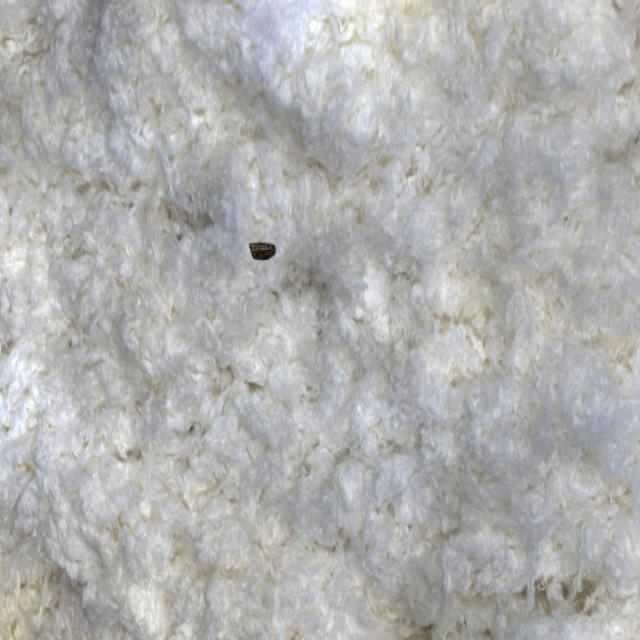dust: (229, 197, 300, 296)
